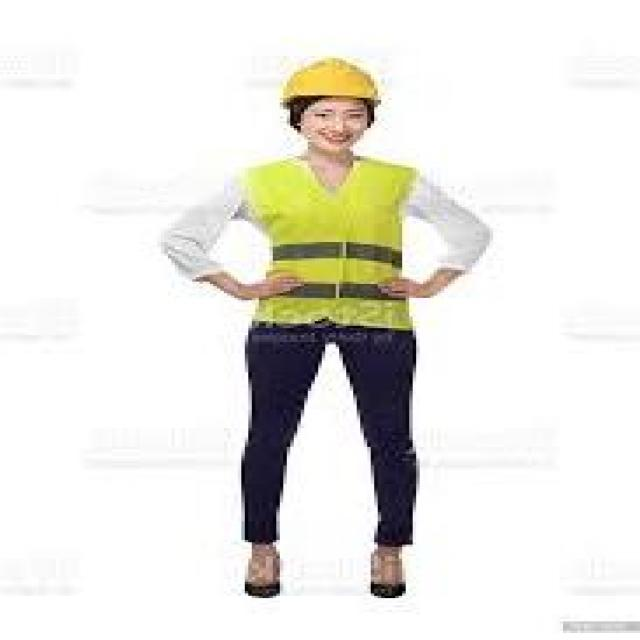Reflective-Jacket: (224, 154, 444, 335)
Safety-Helmet: (273, 52, 392, 110)
